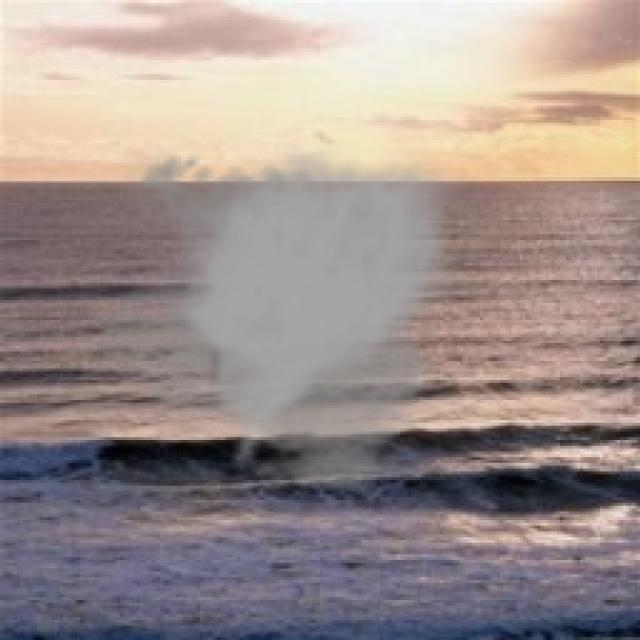smoke: (97, 143, 469, 497)
